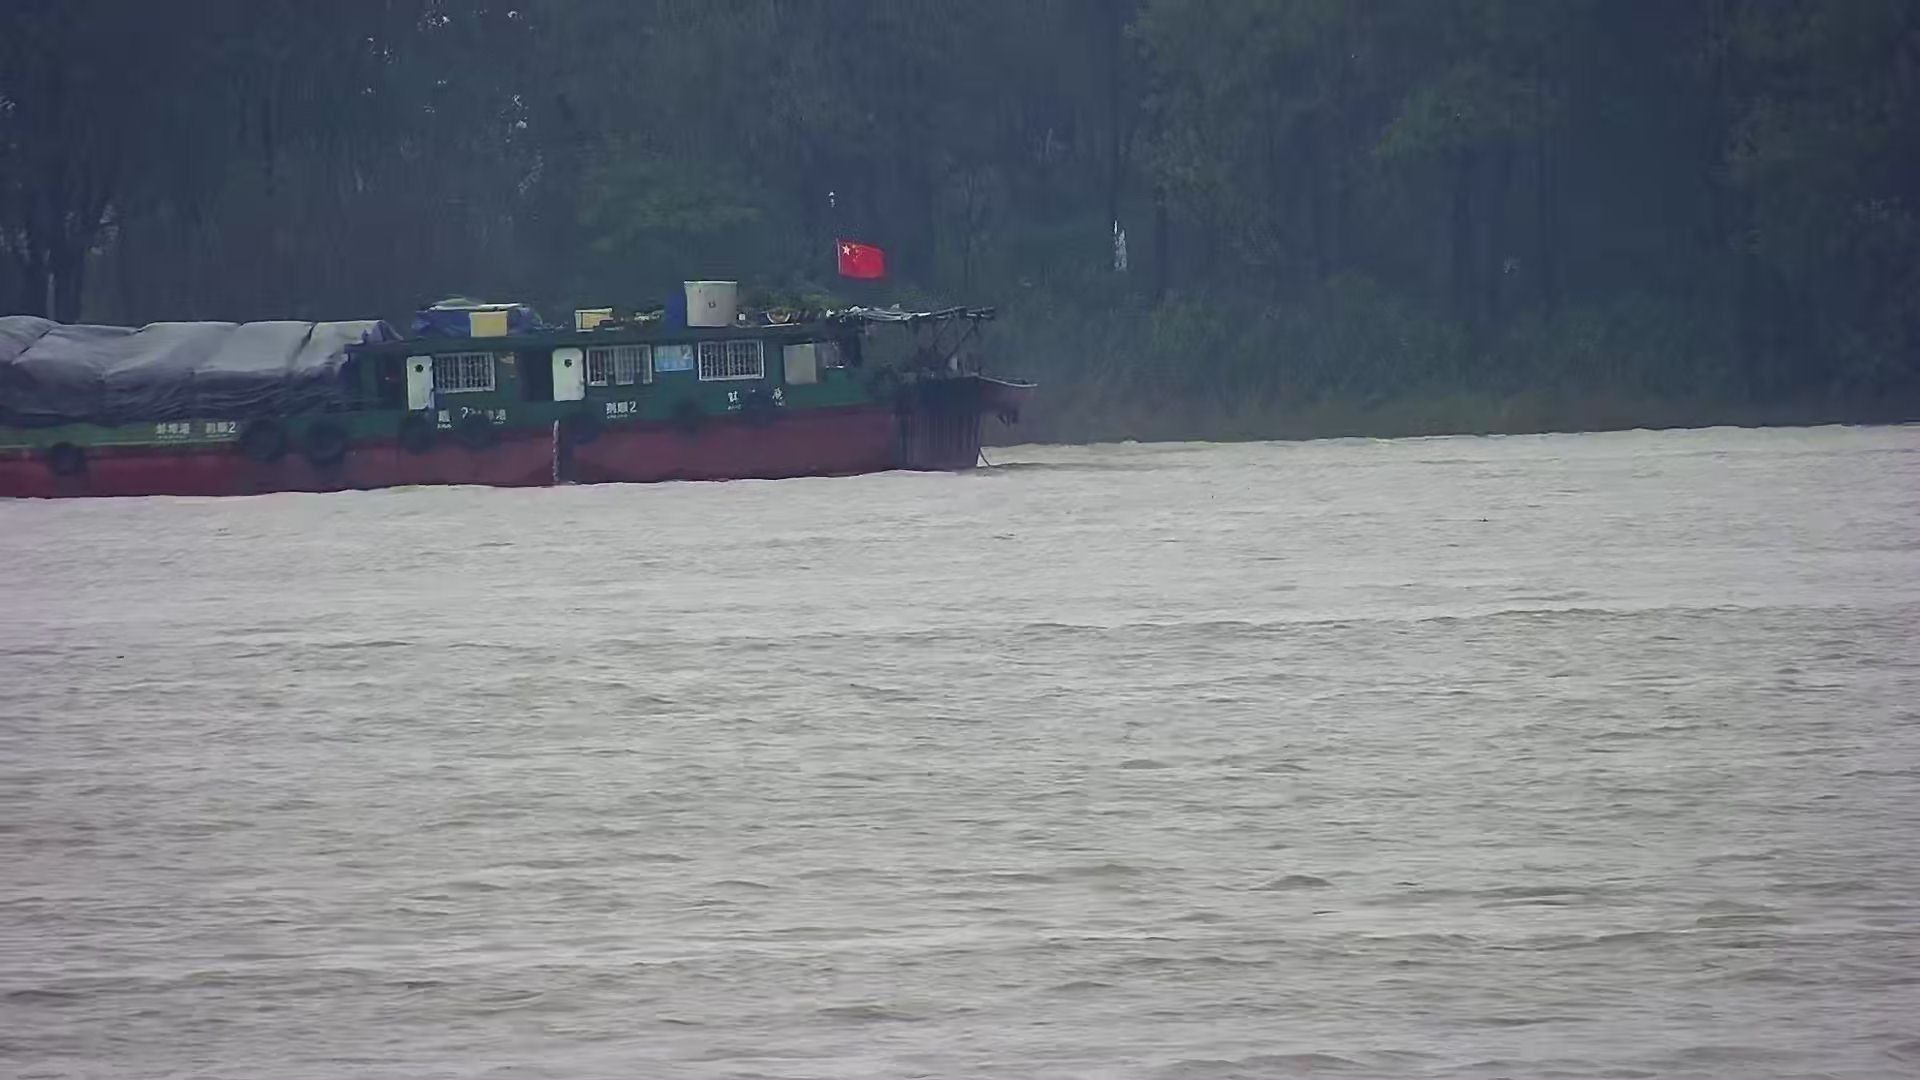ship: (3, 237, 1036, 495)
